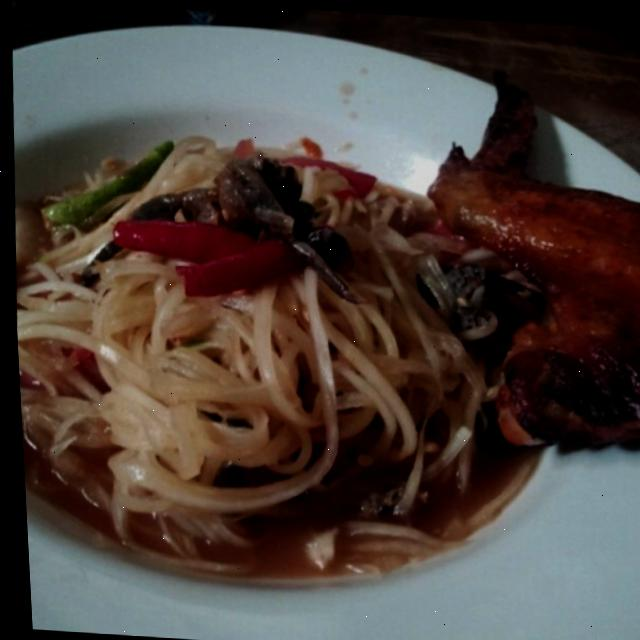蔬菜料理: (9, 30, 640, 619)
